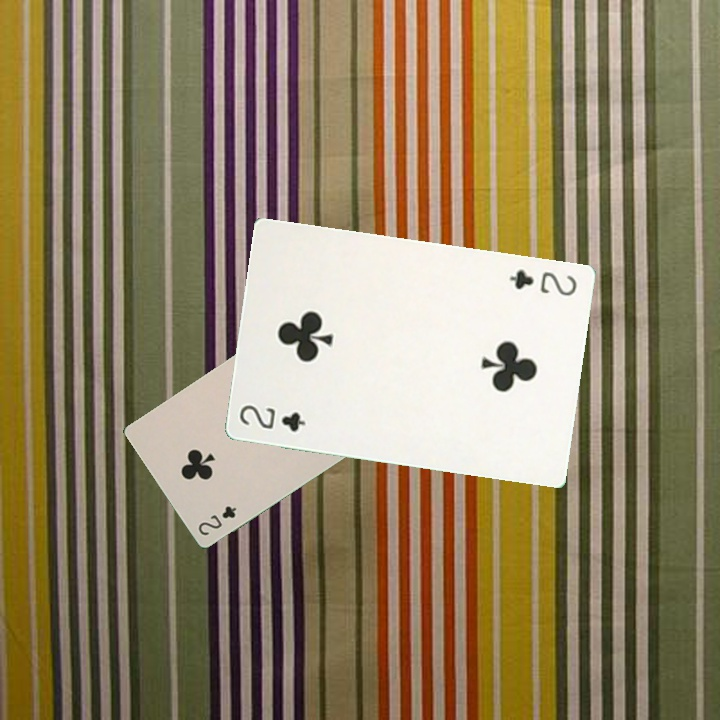2c: (505, 265, 579, 299), (235, 400, 308, 434), (194, 501, 239, 538)
